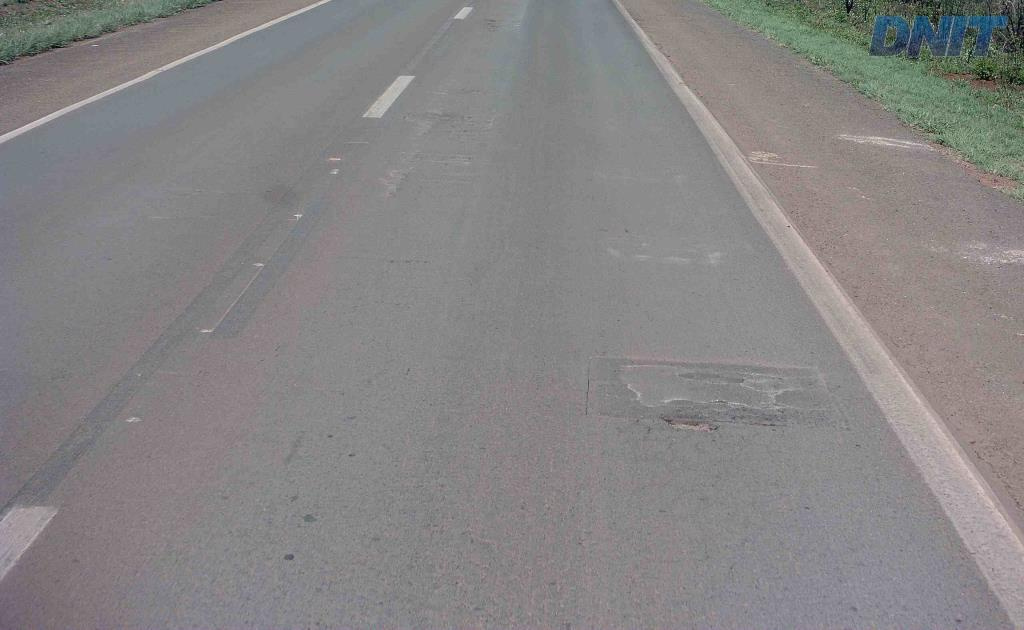pothole: (654, 410, 725, 437)
